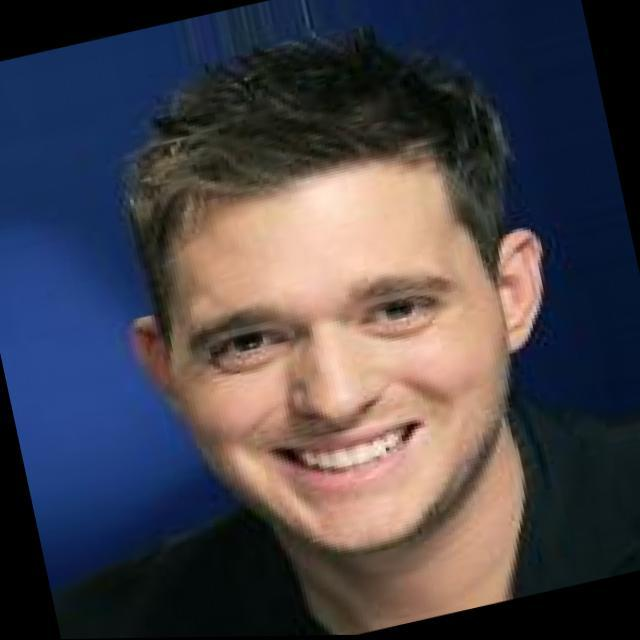Nonhelmet: (116, 26, 550, 559)
